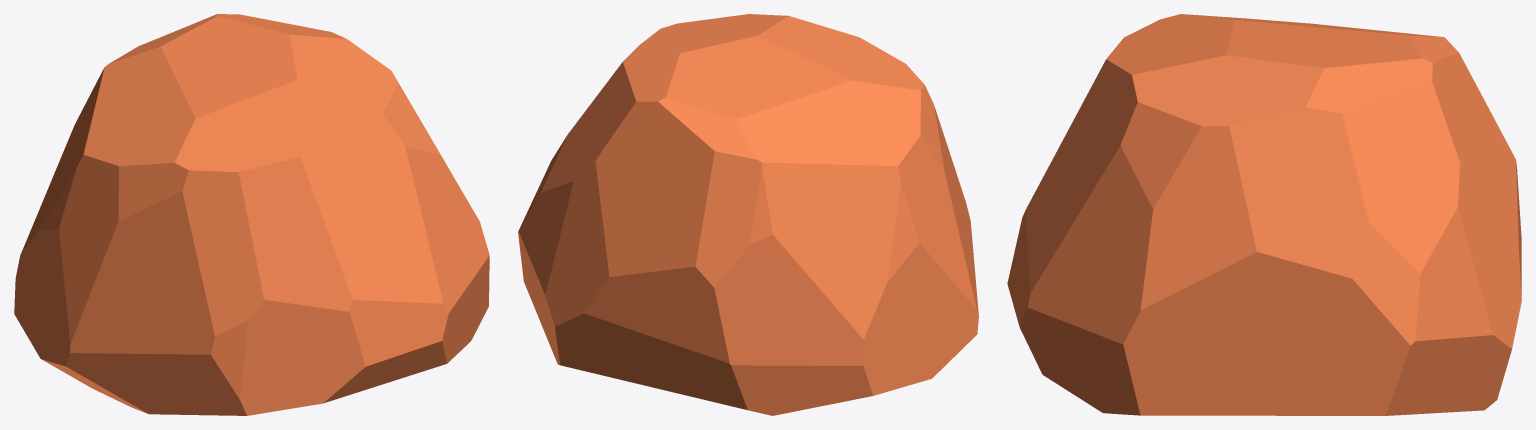
The picture shows the model from 3 angles, left to right: view 1: azimuth 30°, elevation 25°; view 2: azimuth 150°, elevation 25°; view 3: azimuth 270°, elevation 25°; orthographic projection. The views are drawn at different scales.
Parts seen in each view (by area): view 1: Rock_3; view 2: Rock_3; view 3: Rock_3.
Boxes of the visible parts, x1,y1,x2,y2 form: Rock_3: [14, 14, 489, 415]; Rock_3: [518, 14, 978, 415]; Rock_3: [1007, 14, 1521, 415].
Bounding box in the file's own units: 509 × 355 × 507.
